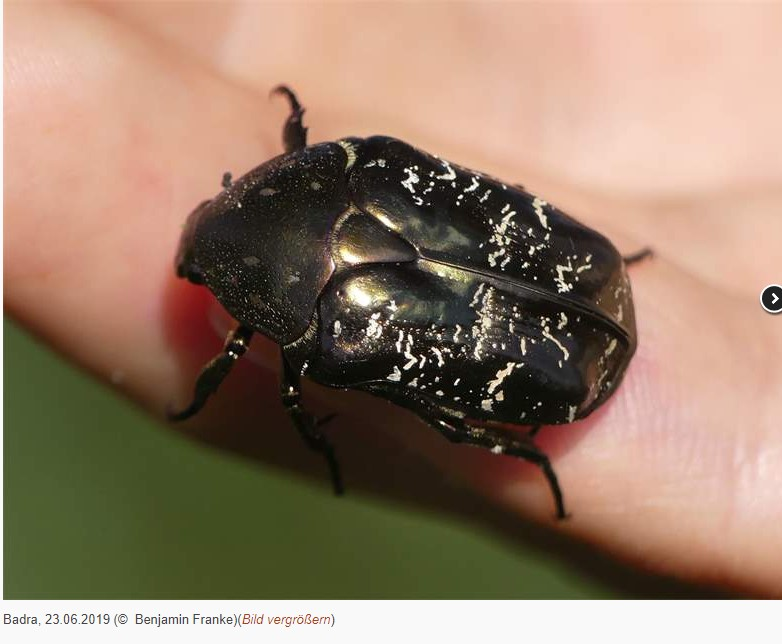Protaetia_lugubris: (161, 67, 657, 527)
